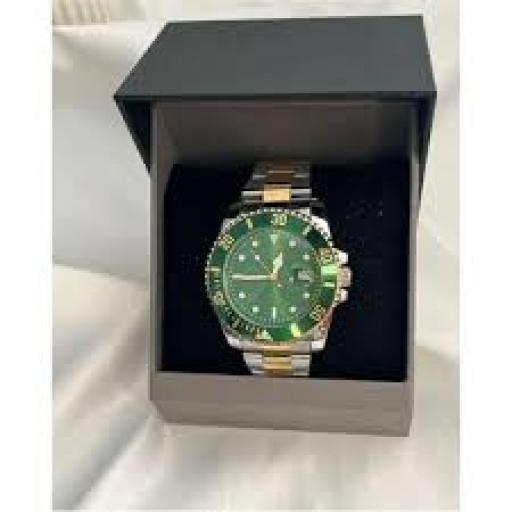KolSaati: (198, 152, 360, 396)
